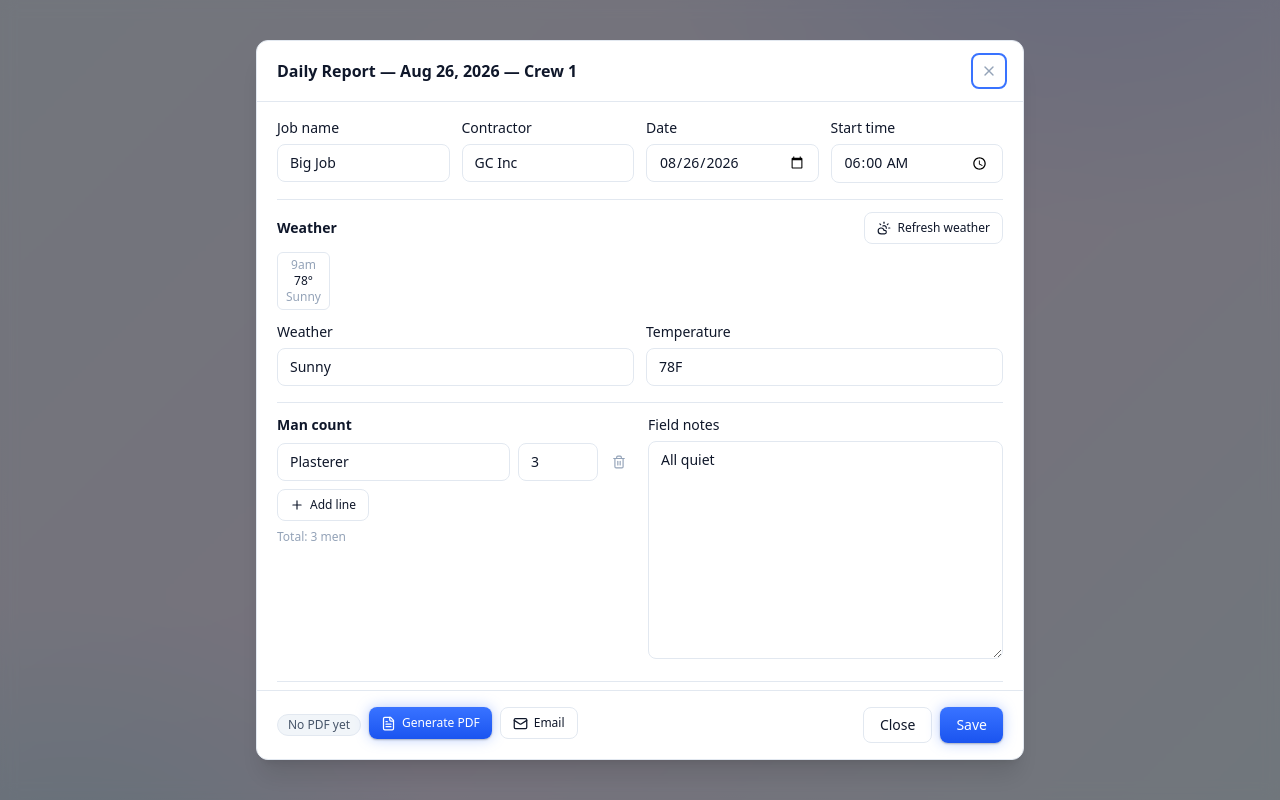
Test: DailyReportEditor — PDF attachments › refuses a PDF while the form is dirty, and says why
Replace the text in the field labelled "Job name" with "Typed job": (363, 163) [277,144,450,182]
(page scrolled)
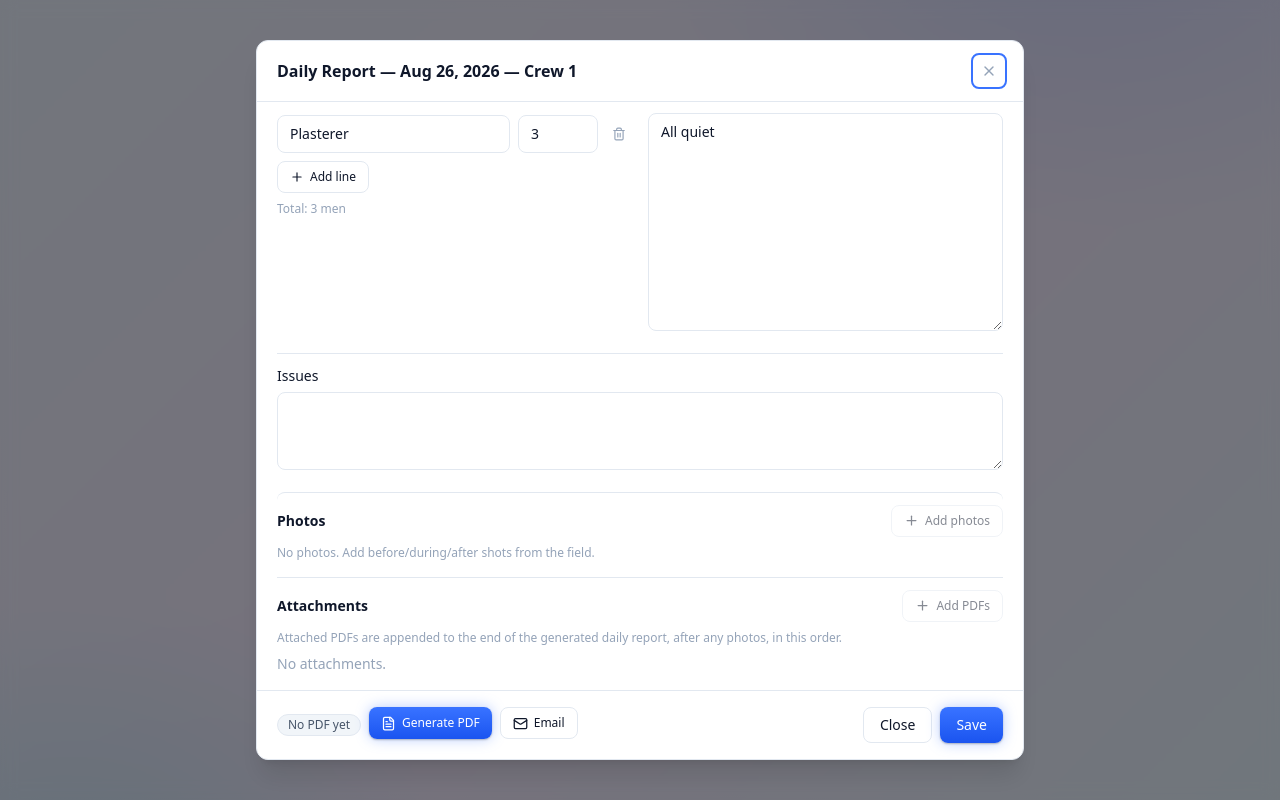
expect the button "Add PDFs" is disabled: met, box [902,590,1003,622]
